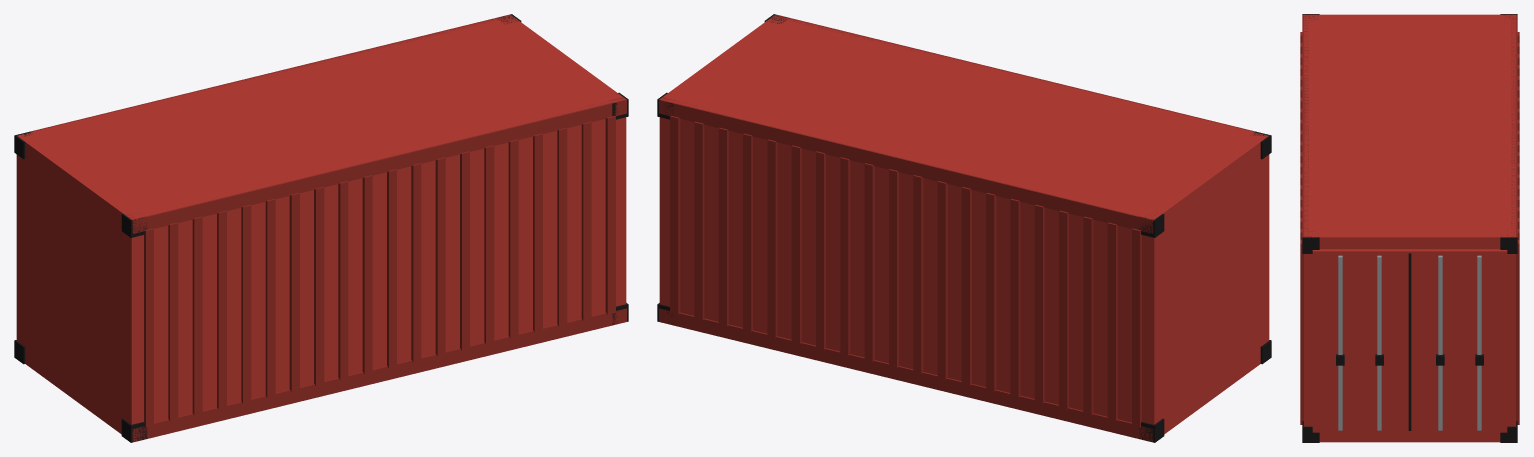
Rendered from Camp_ContainerStorage.fbx.
3 renders of one model, left to right at view 1: azimuth 30°, elevation 25°; view 2: azimuth 150°, elevation 25°; view 3: azimuth 270°, elevation 25°, orthographic. The views are drawn at different scales.
Visible parts, largest first — view 1: Camp_ContainerStorage; view 2: Camp_ContainerStorage; view 3: Camp_ContainerStorage.
Part boxes in pixels (x1,y1,x2,y2): Camp_ContainerStorage: (14, 14, 628, 442); Camp_ContainerStorage: (657, 14, 1271, 442); Camp_ContainerStorage: (1300, 14, 1519, 442).
Bounding box in the file's own units: 6.23 × 2.6 × 2.52.
